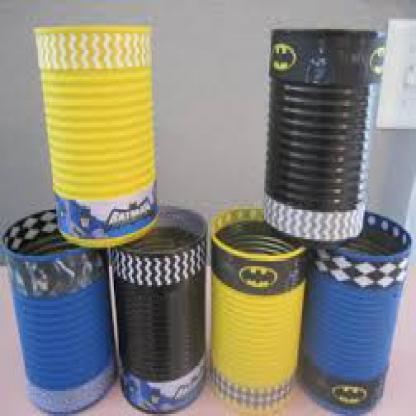METAL: (31, 25, 157, 245), (262, 27, 383, 245), (296, 206, 410, 412), (1, 208, 116, 412), (109, 204, 205, 412), (210, 206, 305, 408)
